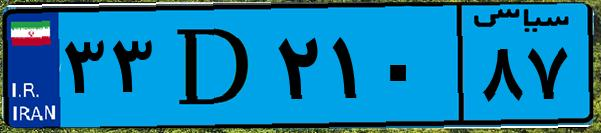0: (385, 28, 445, 110)
1: (330, 28, 385, 110)
2: (270, 28, 330, 110)
3: (57, 26, 110, 100), (110, 28, 158, 98)
7: (525, 38, 570, 115)
8: (475, 38, 525, 113)
D: (158, 12, 270, 120)
